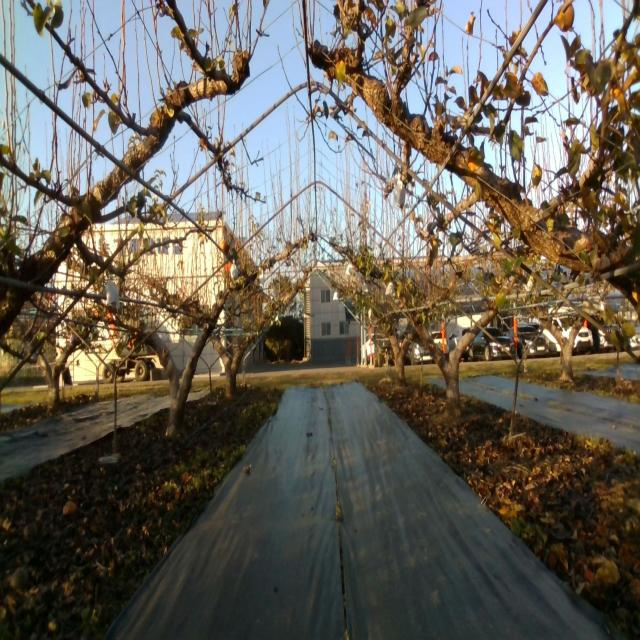pearbags: (106, 274, 120, 310), (394, 175, 406, 214)
